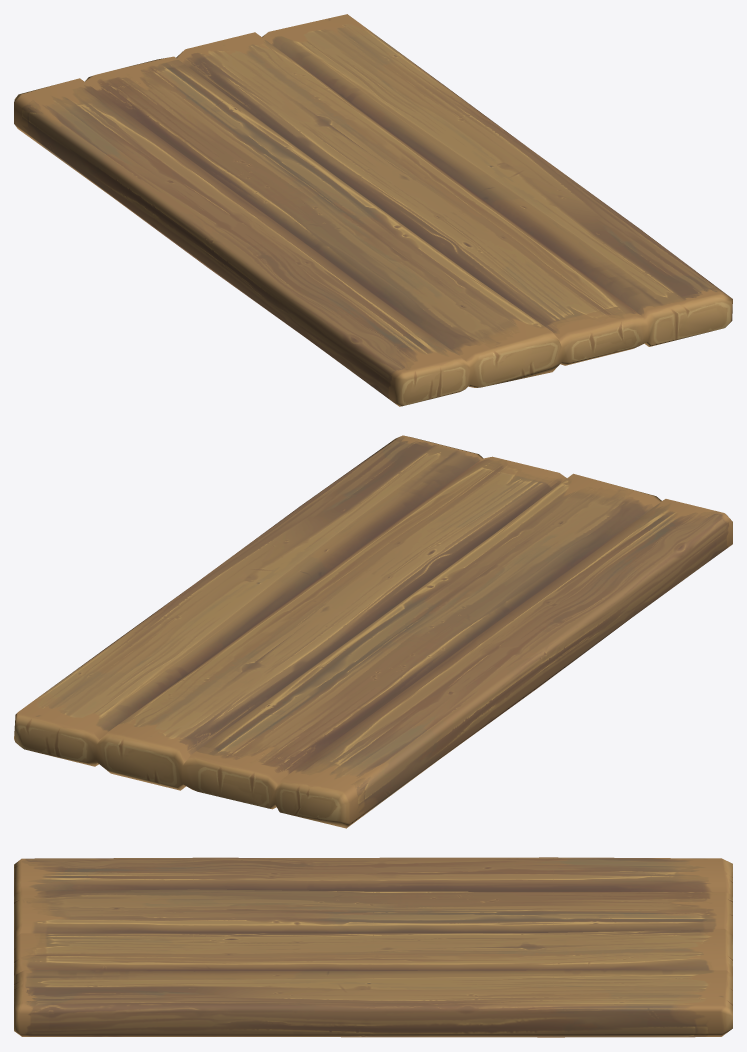
The model's file is SM_MOD_floor_01_half_town.fbx.
3 views of the same model, one above another, from view 1: azimuth 30°, elevation 25°; view 2: azimuth 150°, elevation 25°; view 3: azimuth 270°, elevation 25° (orthographic). The views are drawn at different scales.
Parts seen in each view (by area): view 1: SM_MOD_floor_01_half_town_LOD0; view 2: SM_MOD_floor_01_half_town_LOD0; view 3: SM_MOD_floor_01_half_town_LOD0.
Boxes of the visible parts, left/top/right/bottom form: SM_MOD_floor_01_half_town_LOD0: left=14, top=14, right=732, bottom=406; SM_MOD_floor_01_half_town_LOD0: left=14, top=435, right=732, bottom=828; SM_MOD_floor_01_half_town_LOD0: left=14, top=857, right=732, bottom=1037.
Size of what is drawn, in the model's own units: 201 by 24.63 by 400.
